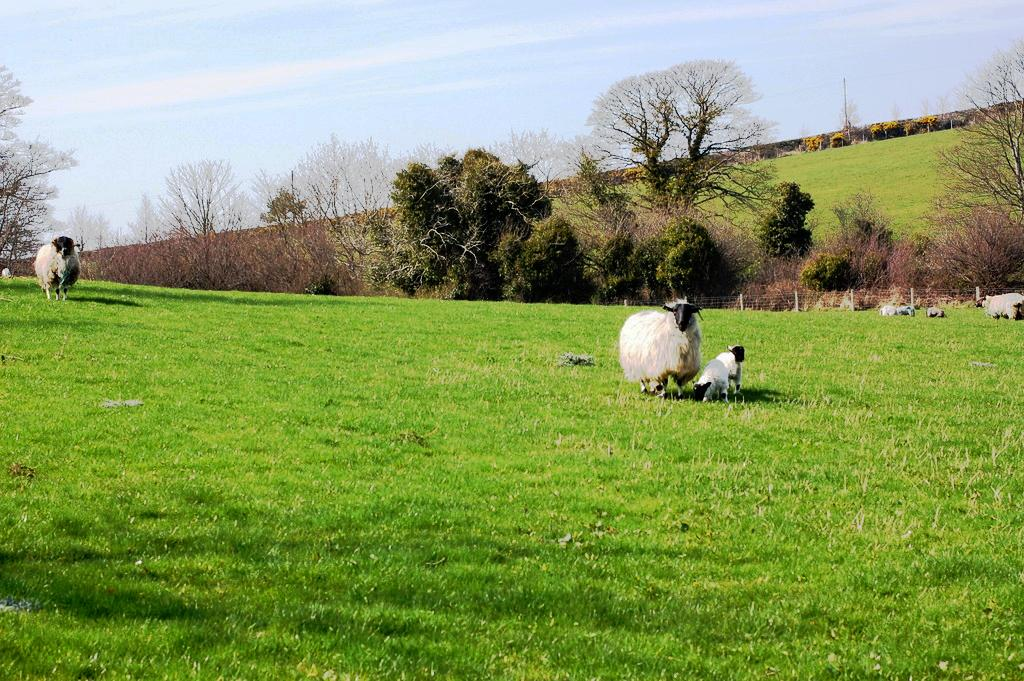Sheep: (614, 296, 703, 396), (32, 231, 82, 302), (714, 348, 746, 396), (974, 293, 1024, 322), (694, 356, 720, 400)
